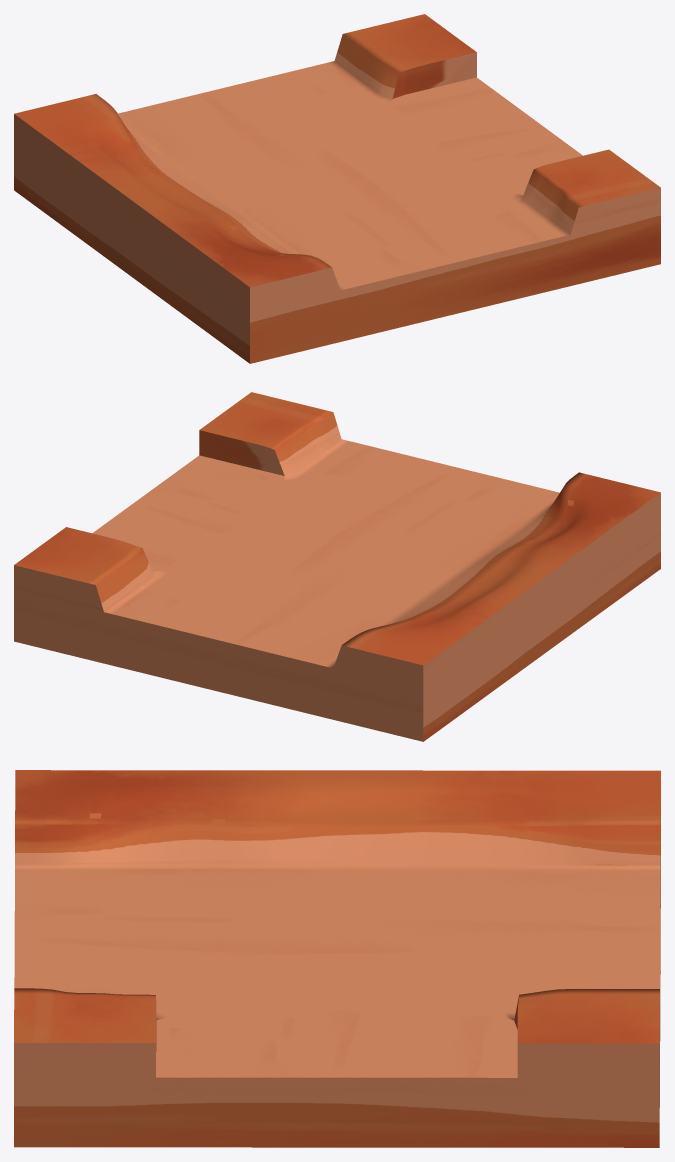
File: Path_split_textured.fbx
The picture shows the model from 3 angles, top to bottom: view 1: azimuth 30°, elevation 25°; view 2: azimuth 150°, elevation 25°; view 3: azimuth 270°, elevation 25°; orthographic projection. The views are drawn at different scales.
Parts seen in each view (by area): view 1: pCube3; view 2: pCube3; view 3: pCube3.
Part boxes in pixels (x1,y1,x2,y2): pCube3: (14,14,660,363); pCube3: (14,392,660,741); pCube3: (14,770,660,1147).
Size of the model in its own units: 3.82 by 0.6788 by 3.82.
